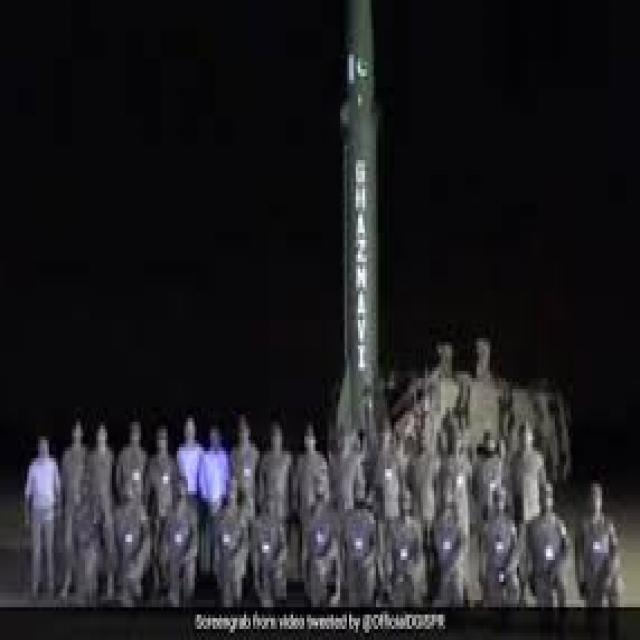missile: (330, 0, 396, 443)
